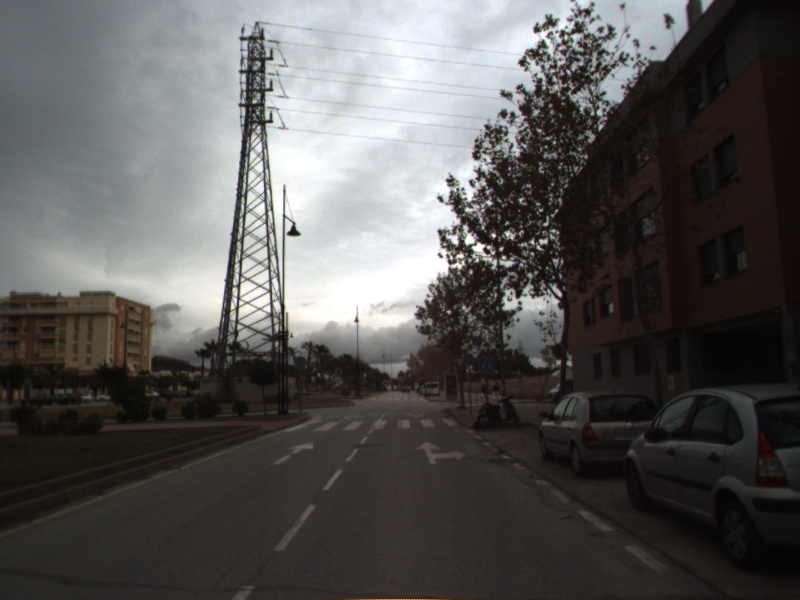STRAIGHT: (271, 438, 315, 466)
STRAIGHT_RIGHT: (413, 439, 467, 466)
